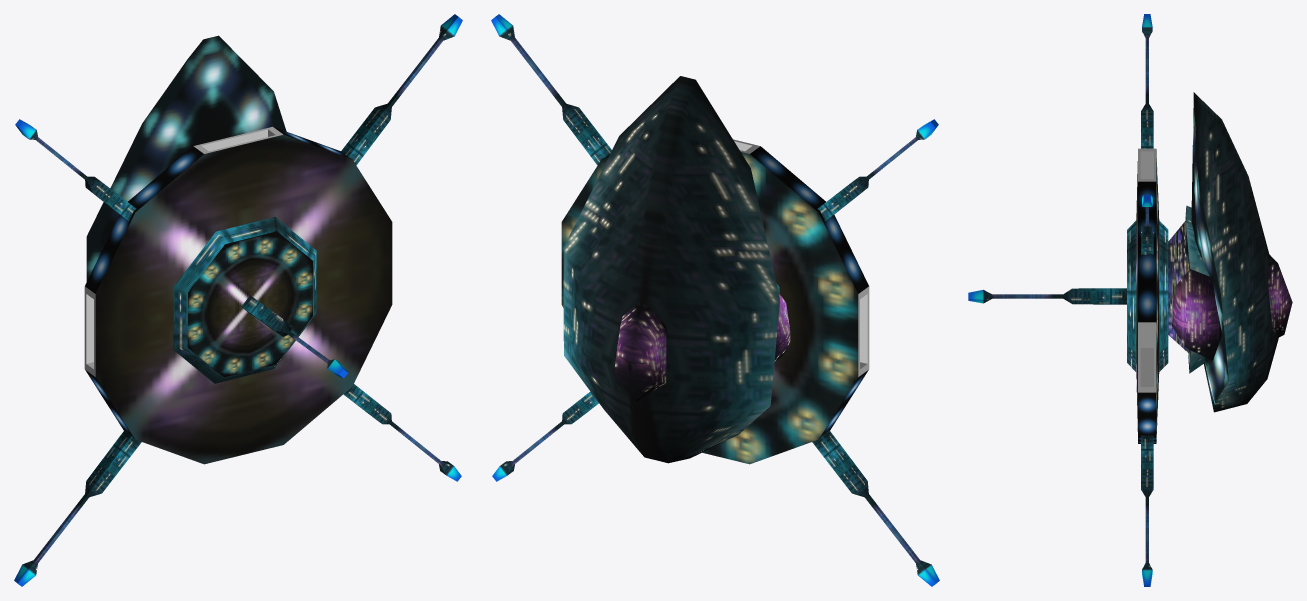
Rendered from ss01_static.obj.
The picture shows the model from 3 angles, left to right: view 1: azimuth 30°, elevation 25°; view 2: azimuth 150°, elevation 25°; view 3: azimuth 270°, elevation 25°; orthographic projection. The views are drawn at different scales.
Parts seen in each view (by area): view 1: frm-platfrm1, frm-platfrm2, frm-fuselg1, frm-corrdr2_14, frm-corrdr2_12, frm-corrdr2_10, frm-corrdr2_1, frm-corrdr2_16; view 2: frm-fuselg1, frm-platfrm1, frm-contwr1, frm-corrdr2_14, frm-corrdr2_12, frm-corrdr2_10, frm-corrdr2_1, frm-bmerge3; view 3: frm-fuselg1, frm-platfrm1, frm-bmerge3, frm-corrdr2_16, frm-platfrm2, frm-fuselg4, frm-fuselg3, frm-contwr1, frm-corrdr2_1, frm-corrdr2_10, frm-corrdr2_12.
Part boxes in pixels (box(x1,y1,x2,y2)): frm-platfrm1: box(84, 126, 392, 464); frm-platfrm2: box(173, 217, 316, 383); frm-fuselg1: box(86, 35, 286, 281); frm-corrdr2_14: box(14, 430, 141, 586); frm-corrdr2_12: box(341, 14, 462, 165); frm-corrdr2_10: box(15, 119, 136, 220); frm-corrdr2_1: box(343, 384, 461, 481); frm-corrdr2_16: box(241, 295, 347, 378); frm-fuselg1: box(563, 76, 779, 463); frm-platfrm1: box(561, 139, 869, 464); frm-contwr1: box(613, 299, 666, 401); frm-corrdr2_14: box(812, 430, 939, 586); frm-corrdr2_12: box(491, 14, 611, 165); frm-corrdr2_10: box(817, 119, 938, 220); frm-corrdr2_1: box(492, 391, 598, 481); frm-bmerge3: box(774, 292, 790, 362); frm-fuselg1: box(1191, 92, 1278, 412); frm-platfrm1: box(1136, 148, 1159, 443); frm-bmerge3: box(1172, 205, 1221, 373); frm-corrdr2_16: box(968, 288, 1126, 304); frm-platfrm2: box(1127, 220, 1136, 371); frm-fuselg4: box(1159, 221, 1168, 371); frm-fuselg3: box(1168, 221, 1188, 353); frm-contwr1: box(1267, 254, 1292, 337); frm-corrdr2_1: box(1141, 435, 1153, 586); frm-corrdr2_10: box(1141, 14, 1153, 148); frm-corrdr2_12: box(1141, 194, 1153, 254).
Bounding box in the file's own units: 130 × 133 × 97.09.
